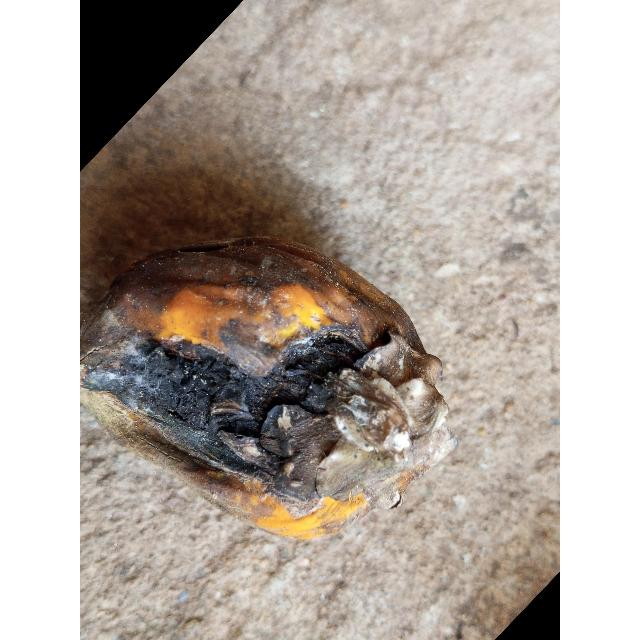damaged: (80, 215, 457, 544)
